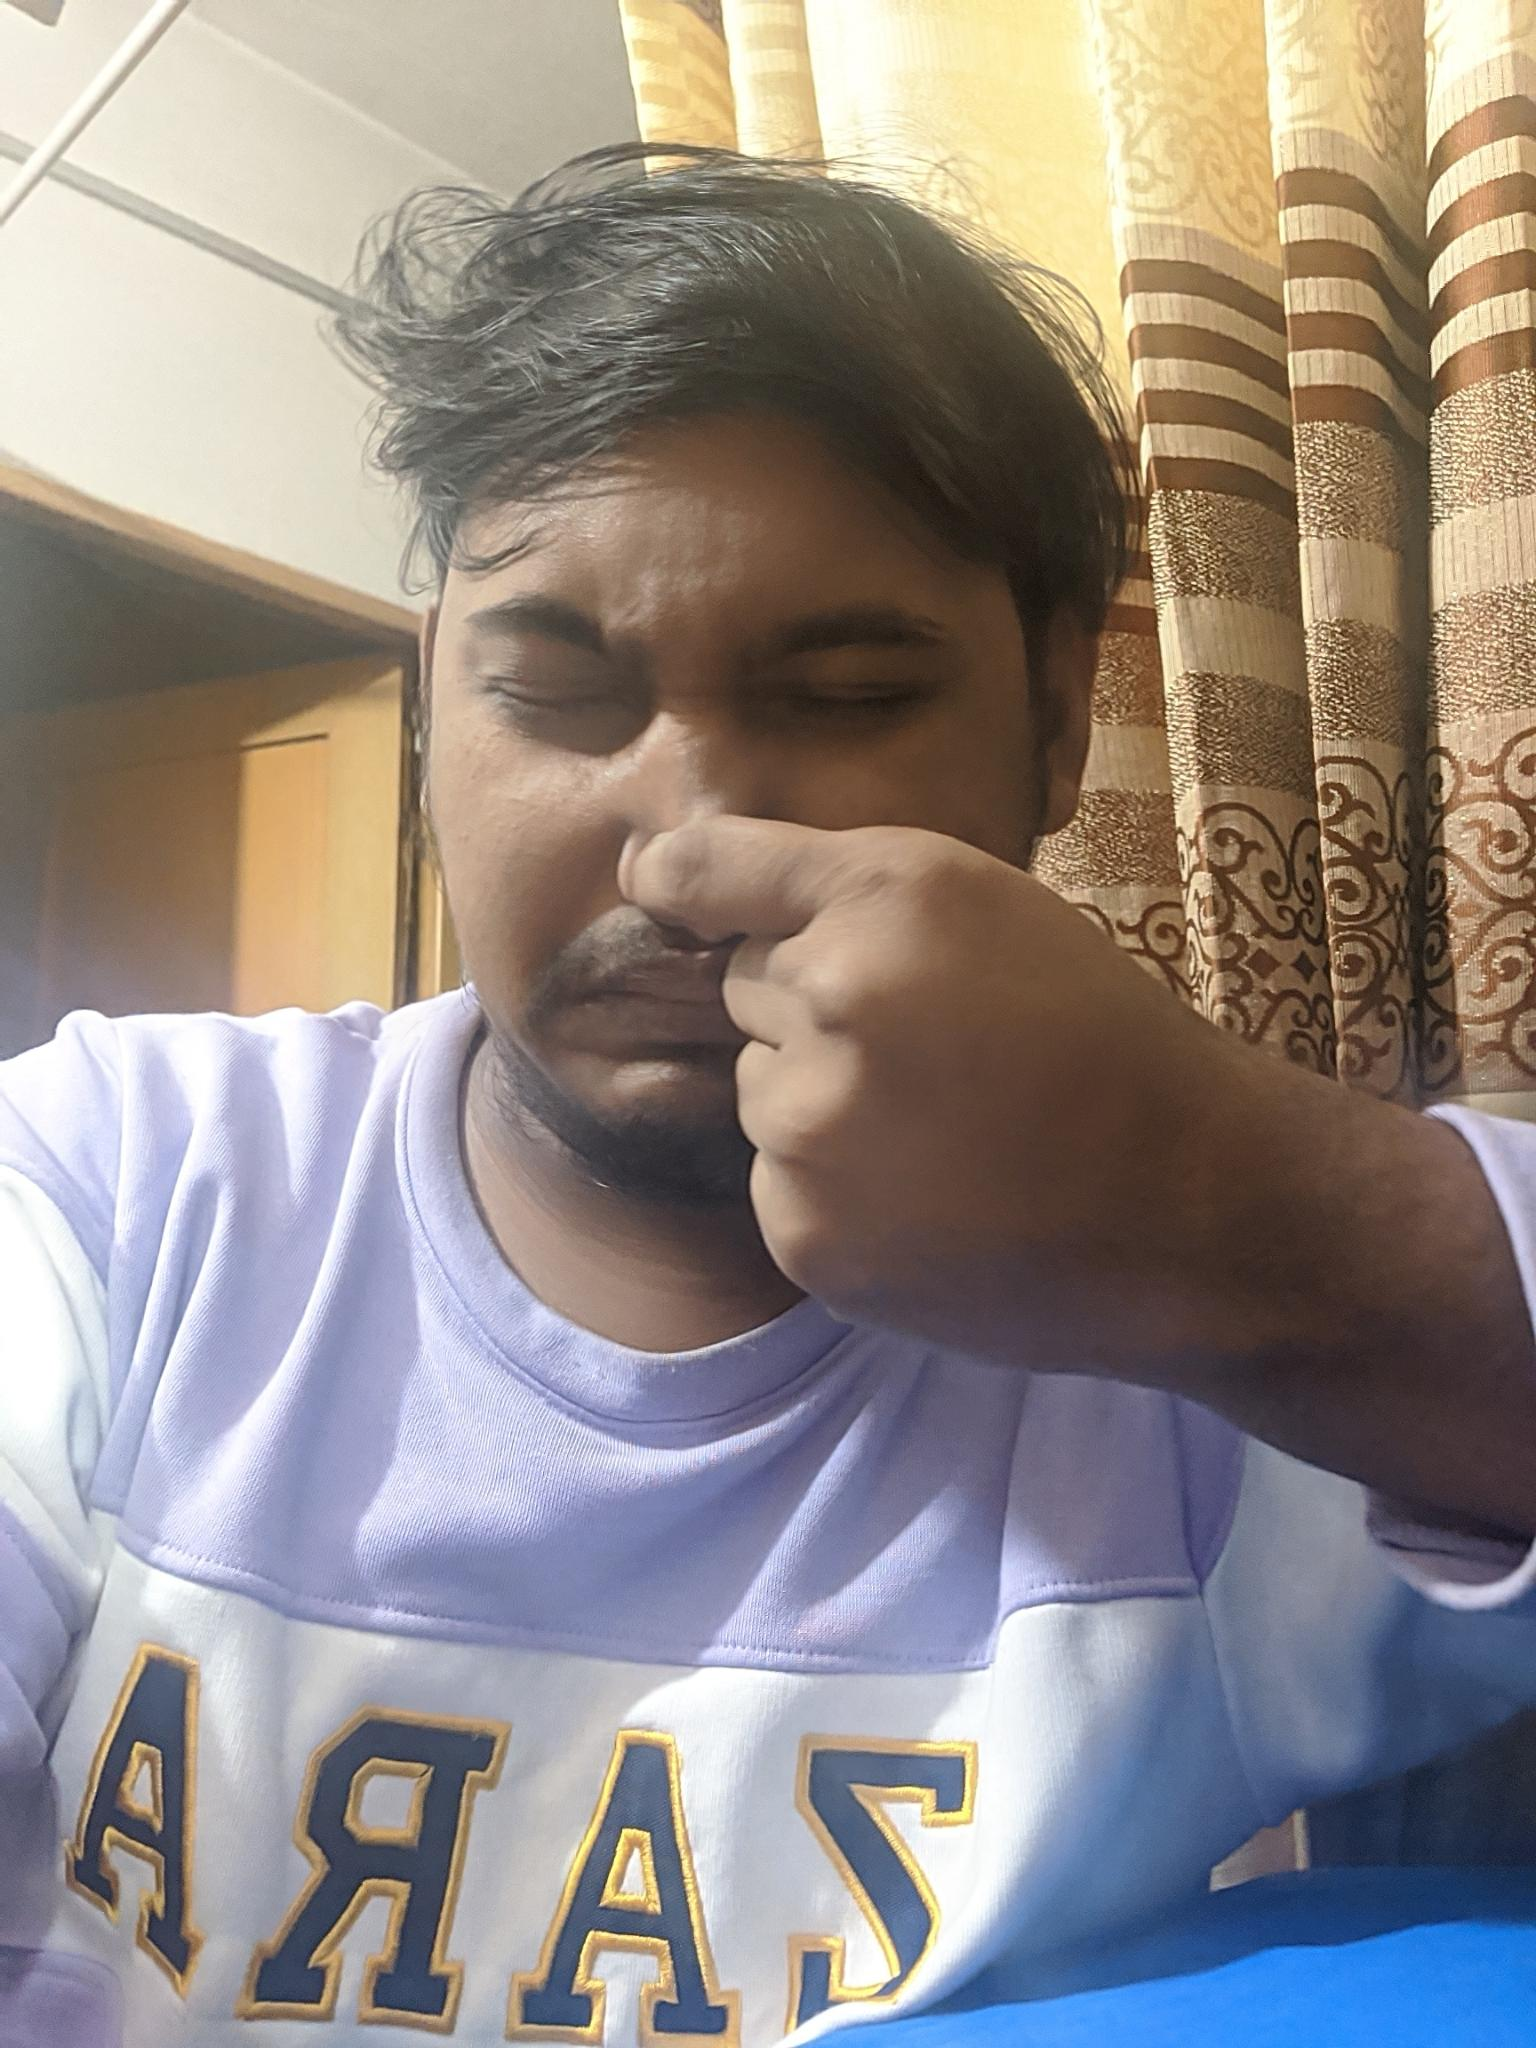Disgust: (387, 468, 1037, 1230)
